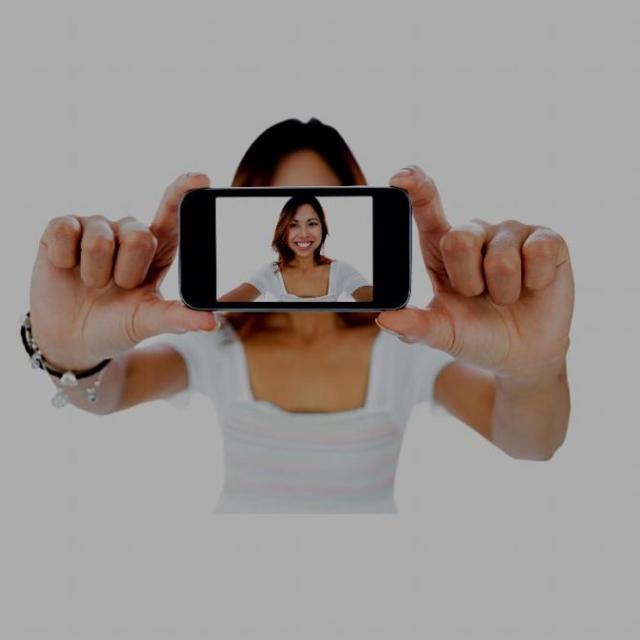device: (174, 180, 415, 317)
